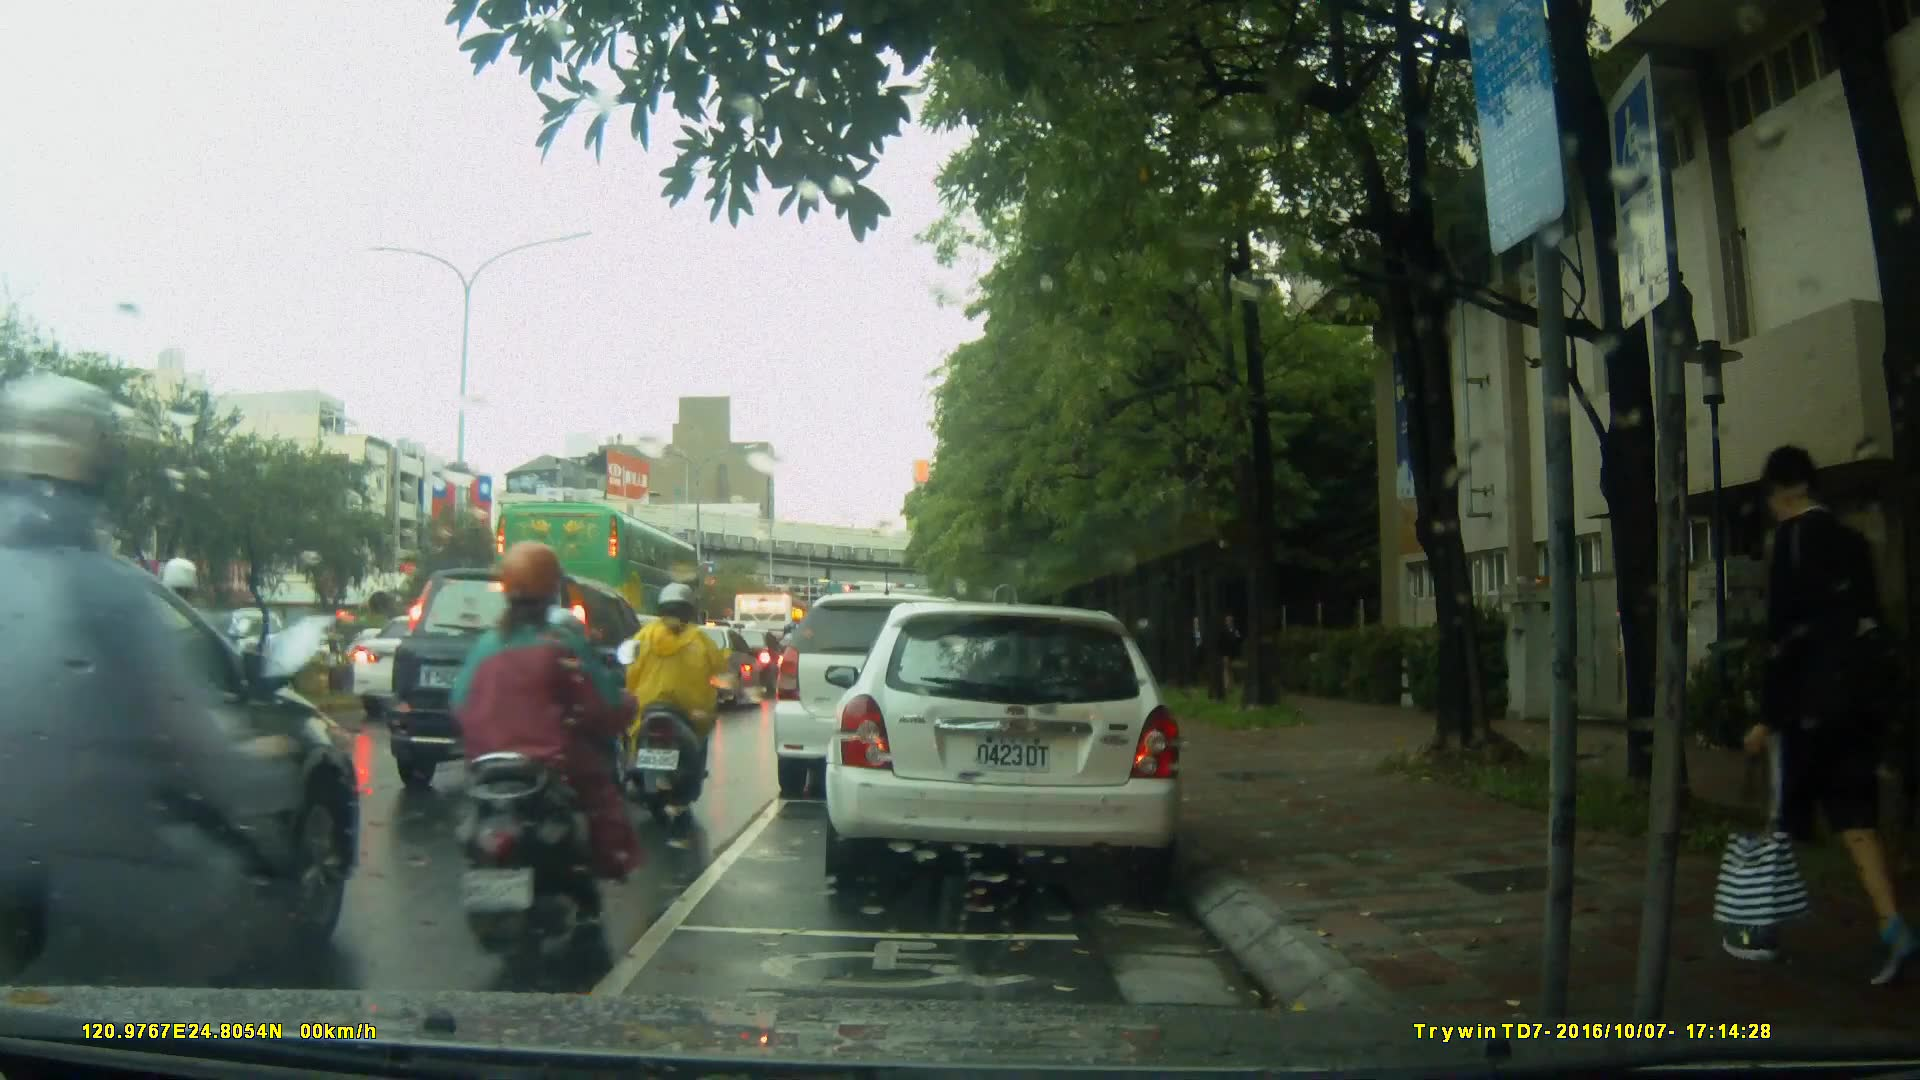pedestrian: (1705, 439, 1900, 1000)
rider: (1, 376, 356, 1080), (457, 544, 639, 965), (627, 579, 732, 826), (137, 558, 248, 792)
vehicle: (3, 521, 357, 988), (831, 592, 1196, 897), (391, 565, 672, 801), (770, 592, 999, 800), (492, 498, 705, 659), (654, 625, 765, 709)
